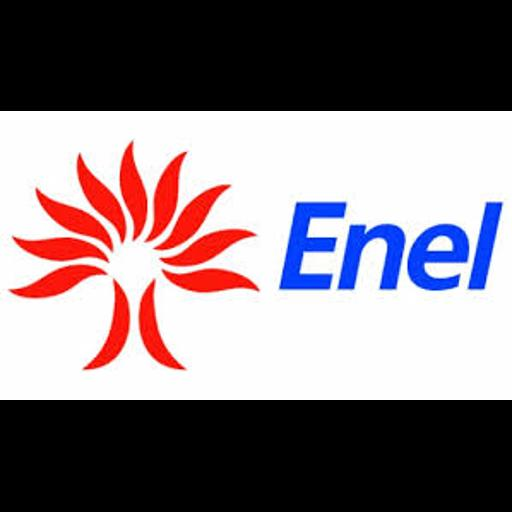Enel Energia S-p-A: (0, 111, 512, 400)
